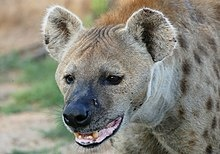hyna: (37, 1, 217, 154)
